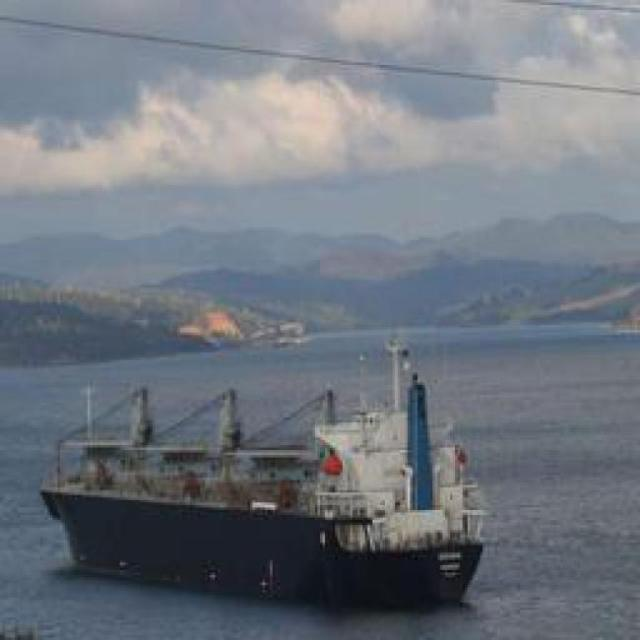boat: (49, 412, 486, 608)
